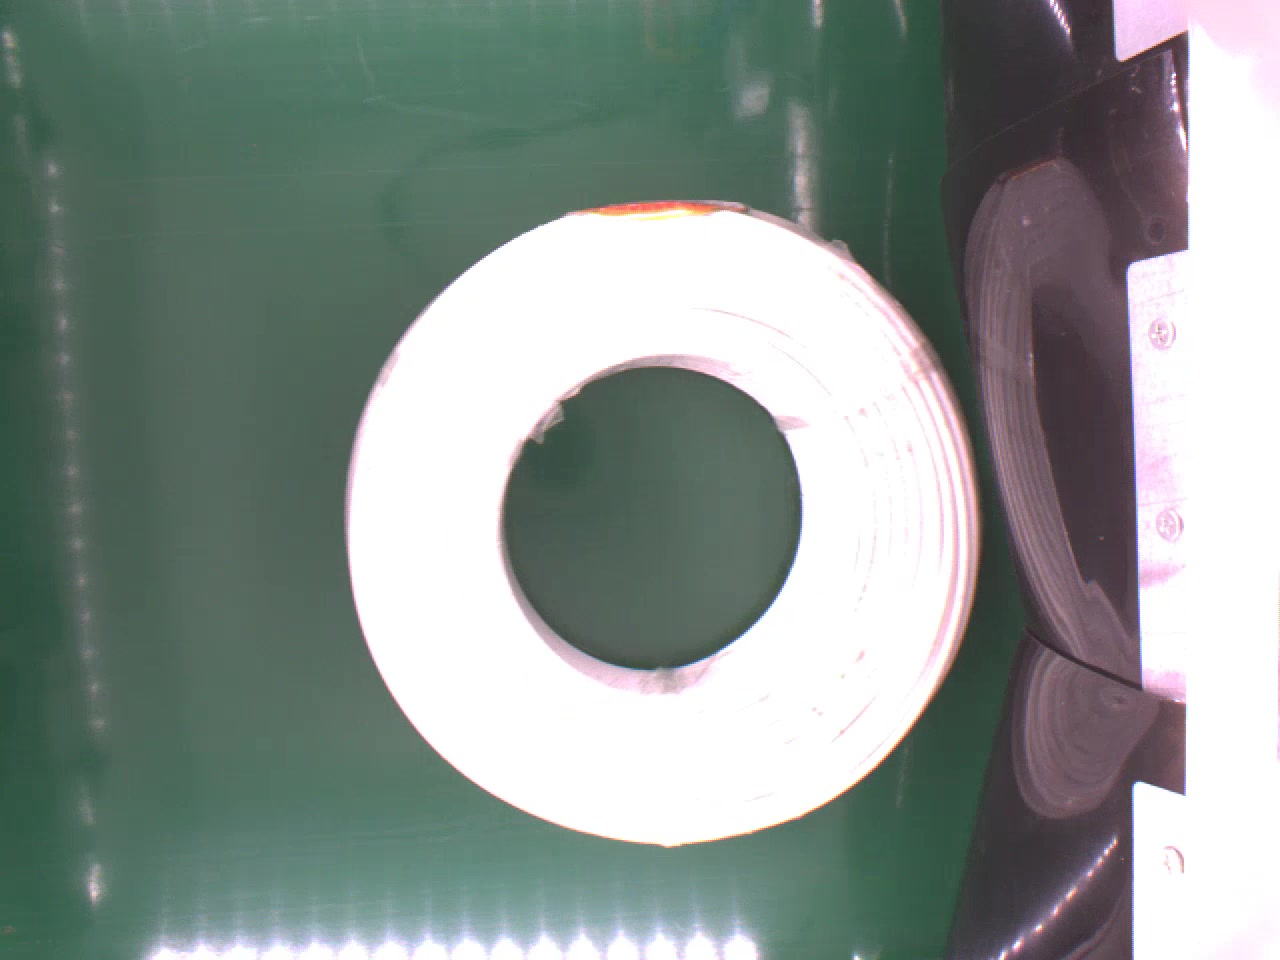white: (339, 195, 988, 850)
